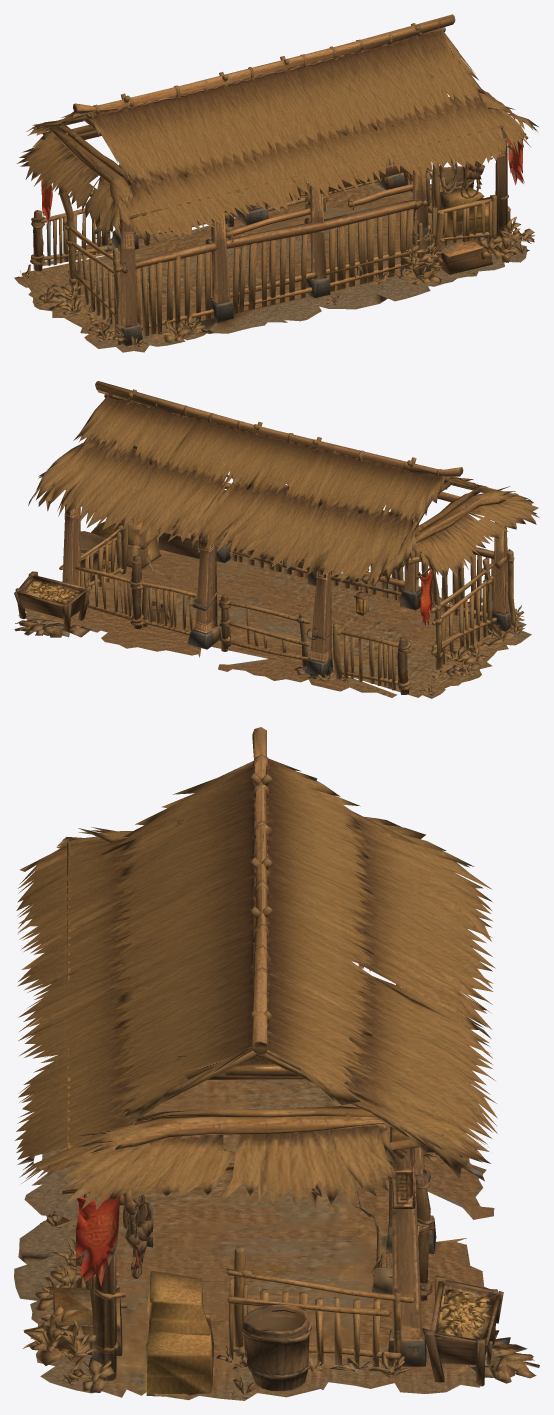
Rendered from Meshy_AI_Thatched_Bamboo_Stabl_1010012438_texture.fbx.
3 renders of one model, top to bottom at view 1: azimuth 30°, elevation 25°; view 2: azimuth 150°, elevation 25°; view 3: azimuth 270°, elevation 25°, orthographic. The views are drawn at different scales.
Visible parts, largest first — view 1: Mesh_0; view 2: Mesh_0; view 3: Mesh_0.
Part boxes in pixels (x1=…): Mesh_0: x1=14, y1=14, x2=538, y2=352; Mesh_0: x1=14, y1=381, x2=539, y2=698; Mesh_0: x1=14, y1=727, x2=539, y2=1400.
Size of the model in its own units: 95.75 by 42.87 by 58.98.
1 material, 1 textured.
